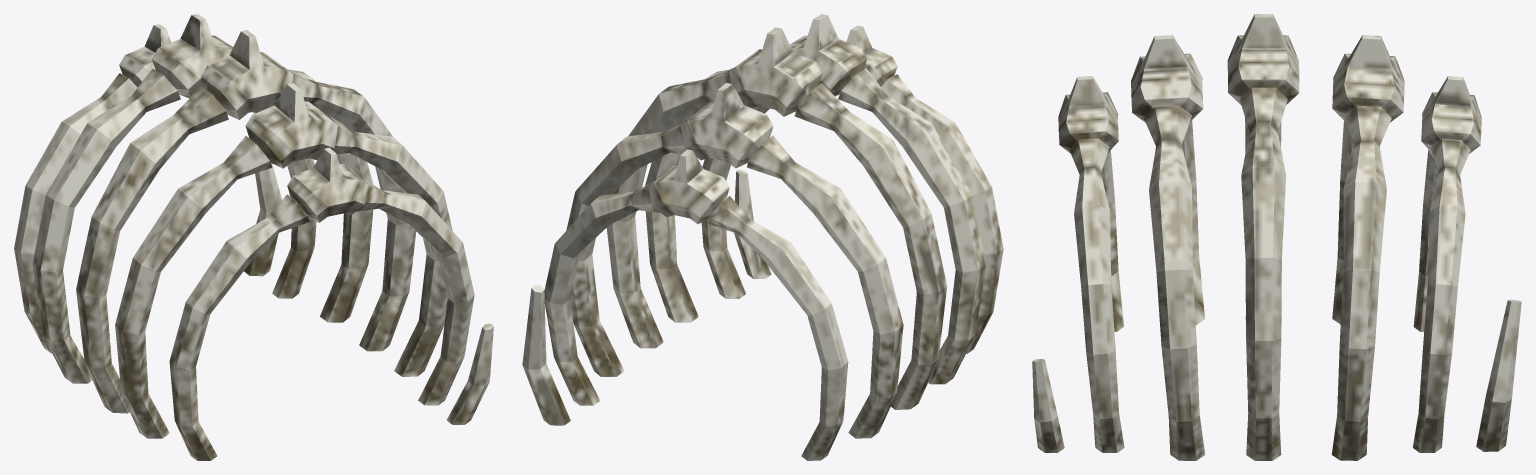
File: Bone_Gate.fbx
The picture shows the model from 3 angles, left to right: view 1: azimuth 30°, elevation 25°; view 2: azimuth 150°, elevation 25°; view 3: azimuth 270°, elevation 25°; orthographic projection. The views are drawn at different scales.
Parts seen in each view (by area): view 1: BoneGate; view 2: BoneGate; view 3: BoneGate.
Part boxes in pixels (x1=…): BoneGate: x1=14, y1=14, x2=493, y2=460; BoneGate: x1=522, y1=14, x2=1003, y2=460; BoneGate: x1=1032, y1=14, x2=1521, y2=460.
Size of the model in its own units: 1721 by 1687 by 2008.
1 material, 1 textured.
